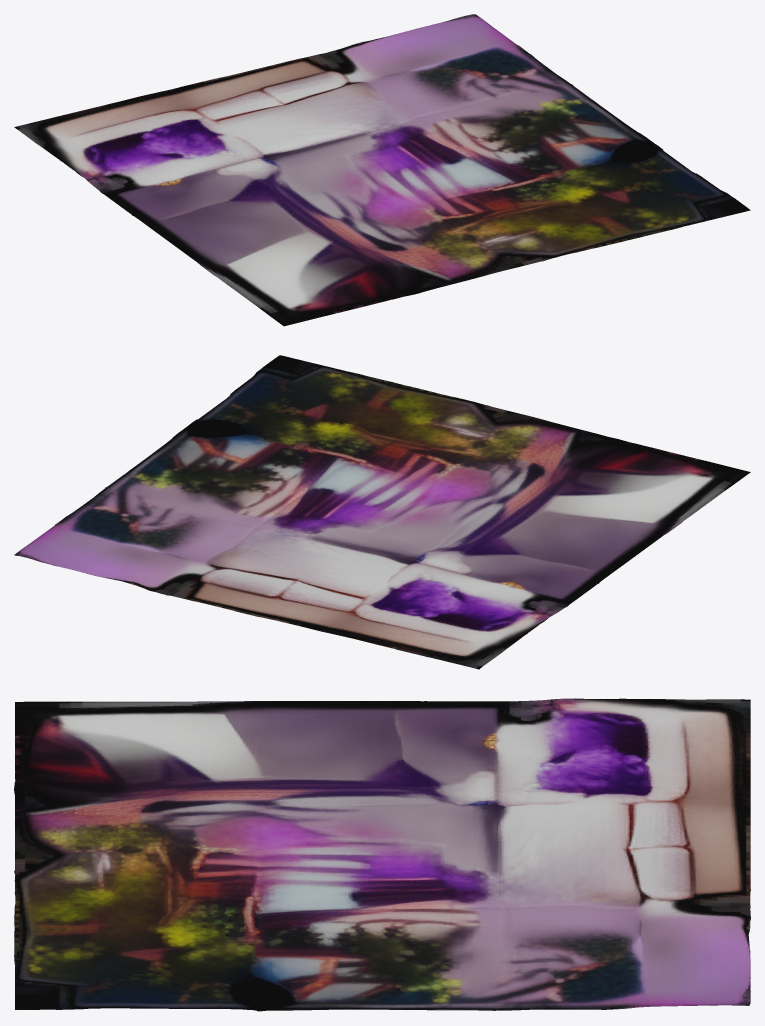
File: trellis_result.glb
The picture shows the model from 3 angles, top to bottom: view 1: azimuth 30°, elevation 25°; view 2: azimuth 150°, elevation 25°; view 3: azimuth 270°, elevation 25°; orthographic projection. The views are drawn at different scales.
Parts seen in each view (by area): view 1: world; view 2: world; view 3: world.
Boxes of the visible parts, x1,y1,x2,y2 form: world: (14,14,750,326); world: (14,355,750,669); world: (14,698,750,1011).
Bounding box in the file's own units: 1 × 0.0112 × 1.
1 material, 1 textured.
